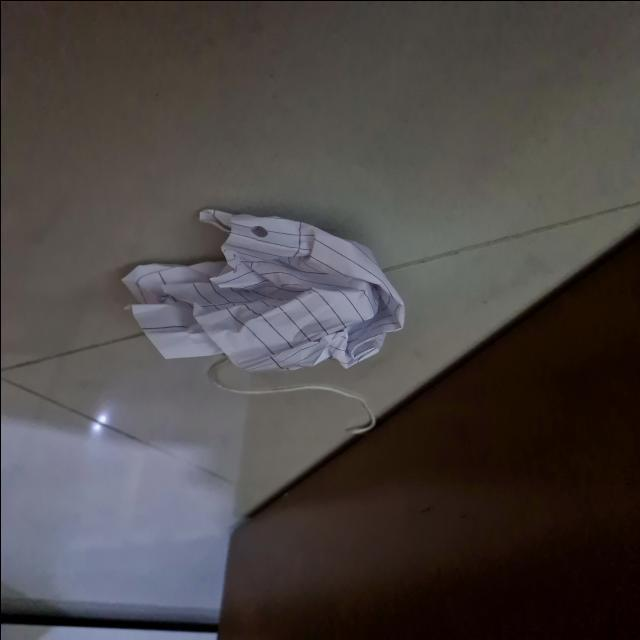Paper: (110, 180, 434, 420)
